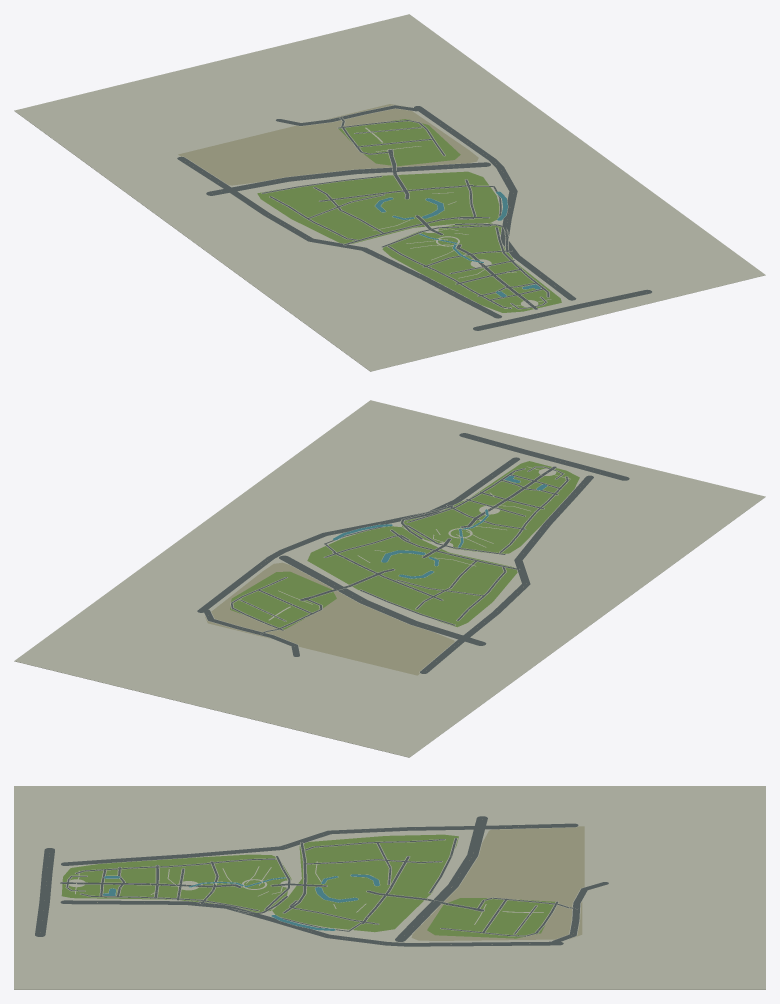
File: campus_ground.glb
The picture shows the model from 3 angles, top to bottom: view 1: azimuth 30°, elevation 25°; view 2: azimuth 150°, elevation 25°; view 3: azimuth 270°, elevation 25°; orthographic projection. The views are drawn at different scales.
Parts seen in each view (by area): view 1: ContextGround, Parcel_B, Parcel_C, Parcel_A, Constructed_C, leihong_public, hexi_public, hongling_public, wuhua_public, leihong_public_Sidewalk; view 2: ContextGround, Parcel_B, Parcel_C, Parcel_A, Constructed_C, leihong_public, hexi_public, hongling_public, wuhua_public, hexi_public_Sidewalk; view 3: ContextGround, Parcel_B, Parcel_C, Parcel_A, Constructed_C, leihong_public, hexi_public, hongling_public, wuhua_public, leihong_public_Sidewalk, hexi_public_Sidewalk, c_north_public (+2 smaller).
Boxes of the visible parts, x1=… form: ContextGround: x1=14, y1=14, x2=765, y2=371; Parcel_B: x1=257, y1=171, x2=499, y2=243; Parcel_C: x1=178, y1=104, x2=478, y2=185; Parcel_A: x1=382, y1=223, x2=561, y2=312; Constructed_C: x1=338, y1=119, x2=460, y2=166; leihong_public: x1=177, y1=156, x2=501, y2=318; hexi_public: x1=414, y1=106, x2=576, y2=300; hongling_public: x1=206, y1=162, x2=490, y2=195; wuhua_public: x1=473, y1=289, x2=651, y2=330; leihong_public_Sidewalk: x1=176, y1=156, x2=502, y2=318; ContextGround: x1=14, y1=400, x2=765, y2=757; Parcel_B: x1=307, y1=526, x2=517, y2=627; Parcel_C: x1=205, y1=562, x2=454, y2=675; Parcel_A: x1=402, y1=461, x2=579, y2=553; Constructed_C: x1=230, y1=571, x2=336, y2=629; leihong_public: x1=420, y1=475, x2=593, y2=673; hexi_public: x1=197, y1=457, x2=519, y2=612; hongling_public: x1=279, y1=555, x2=486, y2=645; wuhua_public: x1=459, y1=433, x2=629, y2=480; hexi_public_Sidewalk: x1=196, y1=457, x2=520, y2=613; ContextGround: x1=14, y1=786, x2=765, y2=989; Parcel_B: x1=272, y1=834, x2=458, y2=932; Parcel_C: x1=411, y1=826, x2=584, y2=940; Parcel_A: x1=61, y1=854, x2=291, y2=912; Constructed_C: x1=427, y1=898, x2=555, y2=938; leihong_public: x1=61, y1=823, x2=578, y2=865; hexi_public: x1=60, y1=900, x2=563, y2=946; hongling_public: x1=395, y1=816, x2=487, y2=941; wuhua_public: x1=35, y1=848, x2=54, y2=936; leihong_public_Sidewalk: x1=60, y1=823, x2=578, y2=866; hexi_public_Sidewalk: x1=60, y1=900, x2=564, y2=946; c_north_public: x1=552, y1=882, x2=608, y2=943.
Size of the model in its own units: 1550 by 1.26 by 2420.
